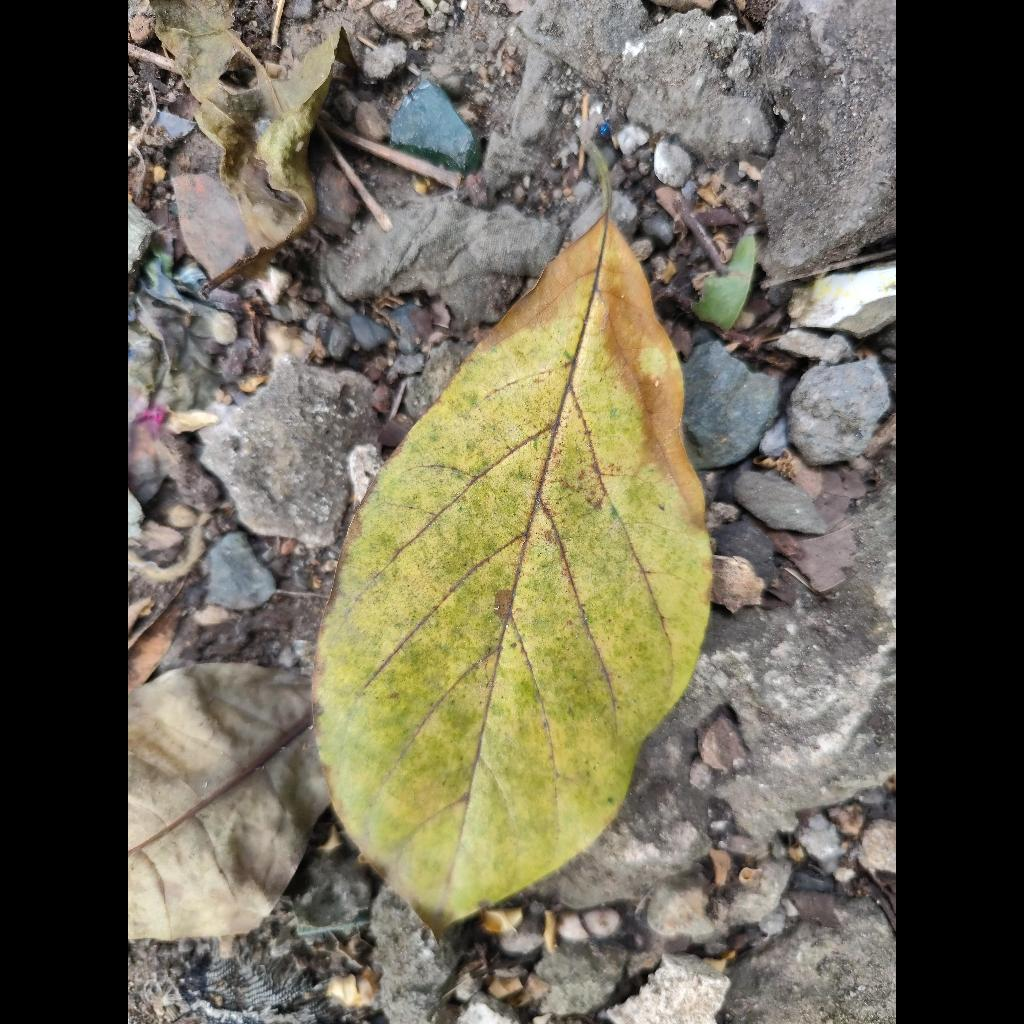nutrient_deficiency: (314, 218, 711, 930)
